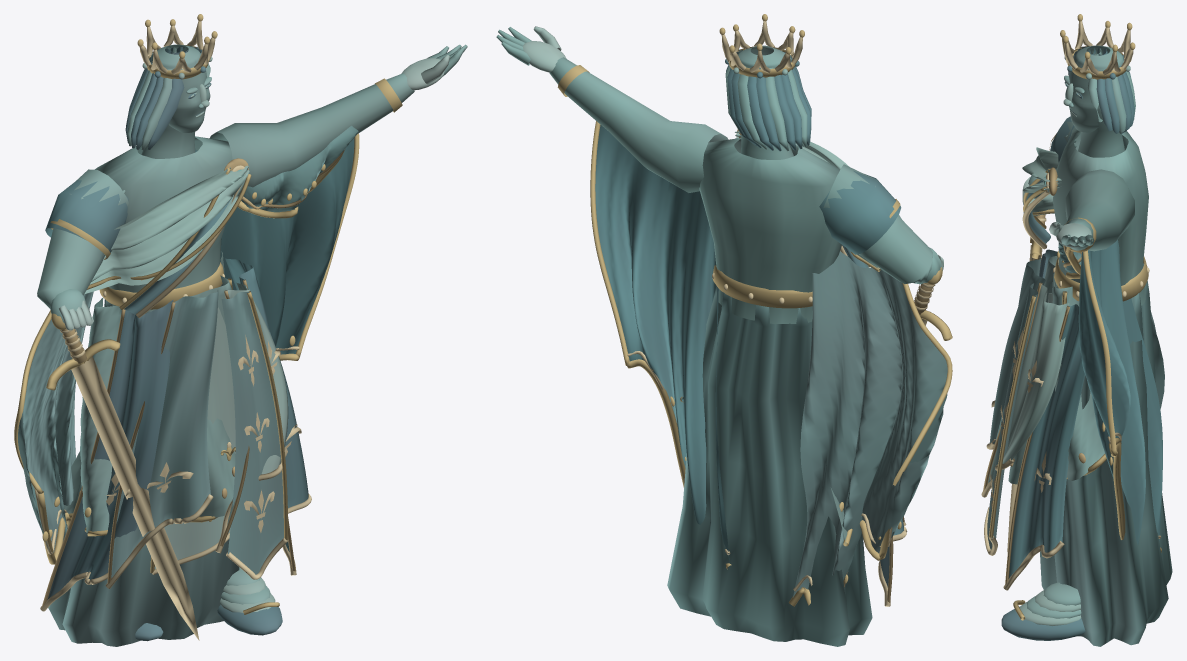
Rendered from colosse_blender_test.glb.
3 views of the same model, side by side, from view 1: azimuth 30°, elevation 25°; view 2: azimuth 150°, elevation 25°; view 3: azimuth 270°, elevation 25° (orthographic).
Visible parts, largest first — view 1: colosse_test_blender; view 2: colosse_test_blender; view 3: colosse_test_blender.
Boxes of the visible parts, left/top/right/bottom form: colosse_test_blender: left=14, top=14, right=467, bottom=646; colosse_test_blender: left=496, top=14, right=952, bottom=646; colosse_test_blender: left=981, top=14, right=1172, bottom=646.
Bounding box in the file's own units: 23.68 × 29.57 × 8.7.
